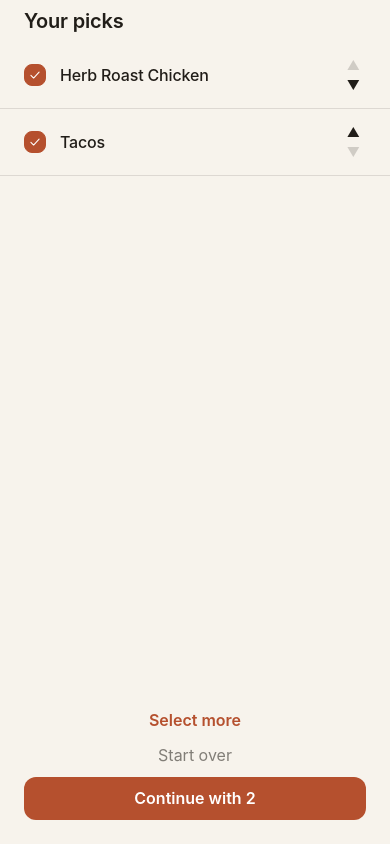
it: Select more shows a retryable error and stays put if it fails
The width and height of the screenshot is (390, 844).
Check: the text "Herb Roast Chicken" is shown, box [60, 64, 209, 84]
Click the button with test id "shortlist-select-more": (195, 720) [24, 707, 366, 734]
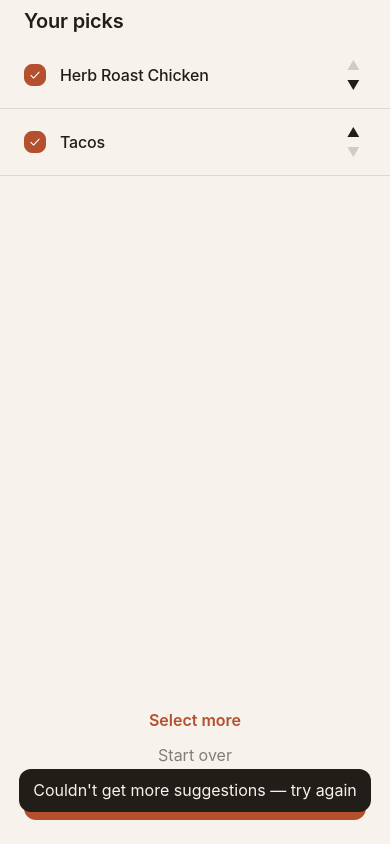
Check: the text "Couldn't get more suggestions — try again" is shown, box [33, 777, 357, 804]
